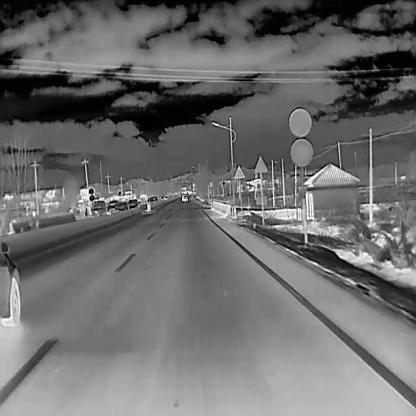car: (90, 200, 106, 216), (106, 199, 120, 213), (127, 198, 138, 209), (117, 202, 127, 210), (146, 195, 157, 202), (182, 193, 187, 201)
